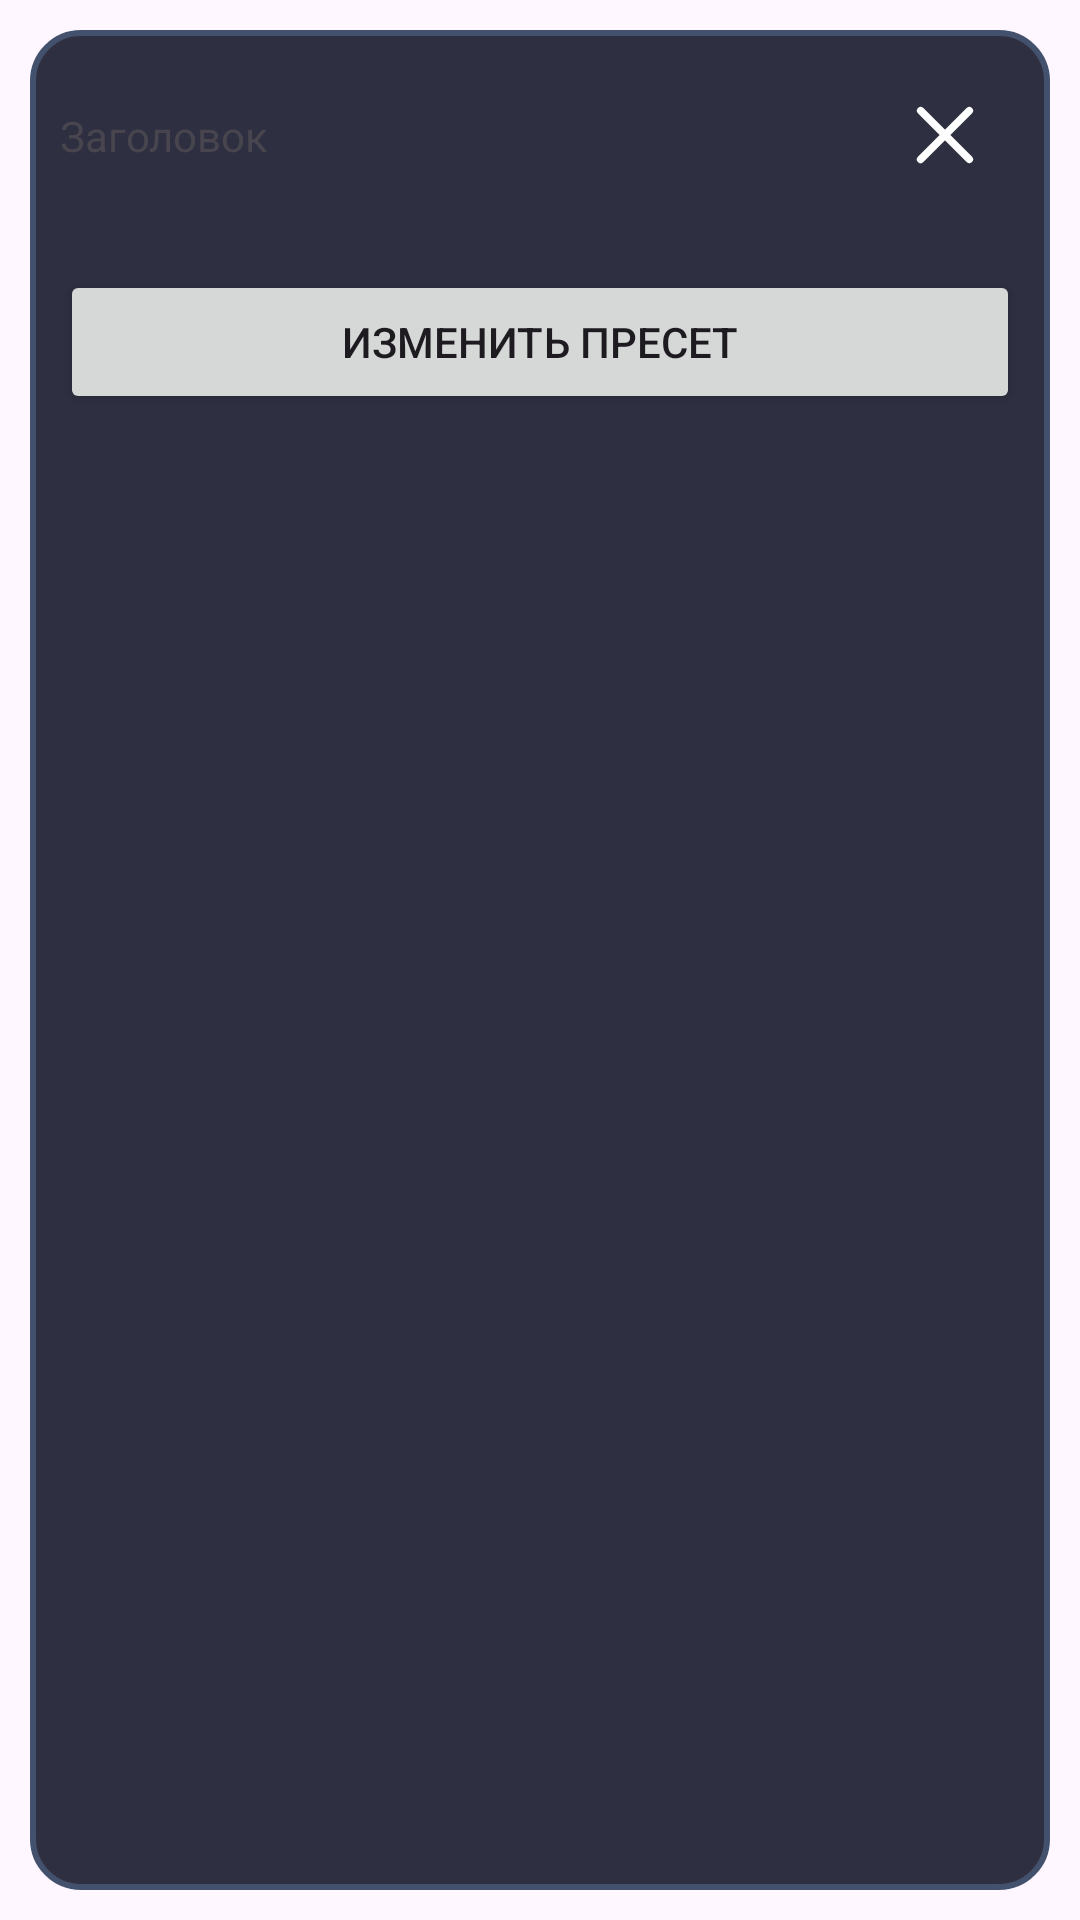

Icons on this 1080×1920 Android screen, each with the point to tap as [x,y]:
close: [945,135]
